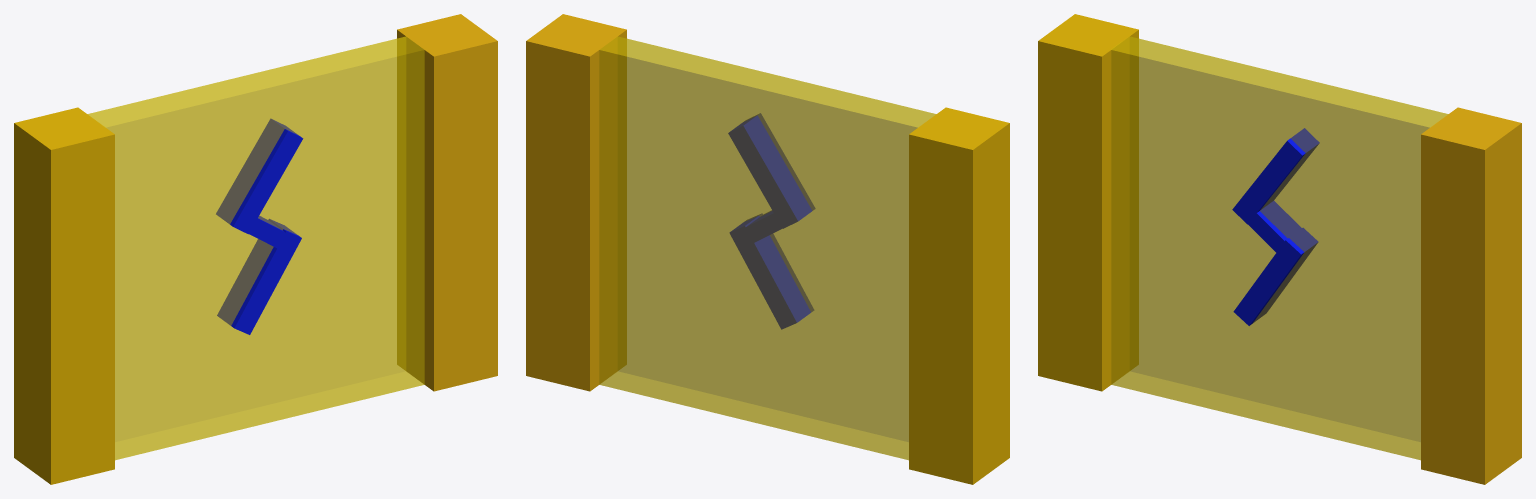
File: PiercingUpgrade.fbx
3 views of the same model, side by side, from view 1: azimuth 30°, elevation 25°; view 2: azimuth 150°, elevation 25°; view 3: azimuth 330°, elevation 25° (orthographic).
Parts seen in each view (by area): view 1: Cube.002, Cube.001; view 2: Cube.002, Cube.001; view 3: Cube.002, Cube.001.
Part boxes in pixels (left/top/right/bottom): Cube.002: left=14, top=14, right=497, bottom=484; Cube.001: left=216, top=118, right=303, bottom=334; Cube.002: left=526, top=14, right=1009, bottom=484; Cube.001: left=728, top=113, right=814, bottom=329; Cube.002: left=1038, top=14, right=1521, bottom=484; Cube.001: left=1232, top=128, right=1319, bottom=325.
Bounding box in the file's own units: 140 × 100 × 20.
